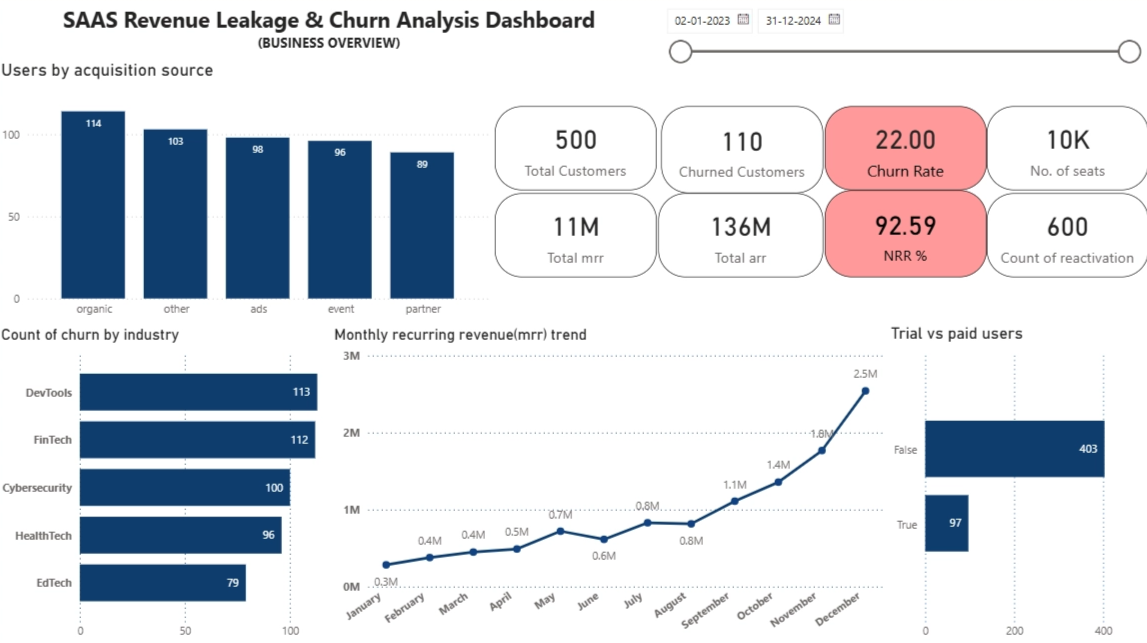

The page's visual inventory and layout, read from the dashboard file:
{"tool":"powerbi","page":{"name":"main chart ","canvas":[1280,720],"ordinal":0},"visuals":[{"type":"card","fields":{"Values":["Sum(ravenstack_subscriptions.arr_amount)"]},"box":[735,215,183.3,93.3],"z":0},{"type":"card","fields":{"Values":["Sum(ravenstack_subscriptions.mrr_amount)"]},"box":[553.3,215,180,93.3],"z":1000},{"type":"card","fields":{"Values":["Sum(ravenstack_accounts.seats)"]},"box":[1100,118.3,180,93.3],"z":2000},{"type":"barChart","title":"Count of churn by industry","fields":{"Category":["ravenstack_accounts.industry"],"Y":["CountNonNull(ravenstack_accounts.churn_flag)"]},"box":[0,361.3,403.2,358.1],"z":3000},{"type":"lineChart","title":"Monthly recurring revenue(mrr)  trend ","fields":{"Category":["ravenstack_subscriptions.start_date.Variation.Date Hierarchy.Year","ravenstack_subscriptions.start_date.Variation.Date Hierarchy.Quarter","ravenstack_subscriptions.start_date.Variation.Date Hierarchy.Month","ravenstack_subscriptions.start_date.Variation.Date Hierarchy.Day"],"Y":["Sum(ravenstack_subscriptions.mrr_amount)"]},"box":[369.4,361.3,619.4,358.1],"z":4000},{"type":"card","fields":{"Values":["CountNonNull(ravenstack_churn_events.is_reactivation)"]},"box":[1100,215,180,93.3],"z":5000},{"type":"columnChart","title":"Users by acquisition source","fields":{"Category":["ravenstack_accounts.referral_source"],"Y":["CountNonNull(ravenstack_accounts.account_id)"]},"box":[0,66.7,551.7,295],"z":7000},{"type":"barChart","title":"Trial vs paid users","fields":{"Category":["ravenstack_accounts.is_trial"],"Y":["CountNonNull(ravenstack_accounts.is_trial)"]},"box":[988.7,359.7,291.9,359.7],"z":8000},{"type":"card","fields":{"Values":["ravenstack_subscriptions.NRR 2024"]},"box":[920,211.7,180,96.7],"z":9000},{"type":"card","fields":{"Values":["ravenstack_accounts.Total Customers"]},"box":[553.3,118.3,180,93.3],"z":10000},{"type":"card","fields":{"Values":["ravenstack_accounts.Churned Customers"]},"box":[738.3,118.3,180,96.7],"z":11000},{"type":"card","fields":{"Values":["ravenstack_accounts.Churn Rate"]},"box":[920,118.3,180,93.3],"z":12000},{"type":"textbox","box":[0,0,738.3,65],"z":13000},{"type":"slicer","fields":{"Values":["ravenstack_accounts.signup_date"]},"box":[731.7,0,548.3,91.7],"z":14000}]}

Visuals, with their boxes in screenshot pixels (x1, y1, x2, y2), scaled from the page's 1280x720 canvas onto the 1147x643 screenshot:
card - Sum(ravenstack_subscriptions.arr_amount): box(659, 192, 823, 275)
card - Sum(ravenstack_subscriptions.mrr_amount): box(496, 192, 657, 275)
card - Sum(ravenstack_accounts.seats): box(986, 106, 1146, 189)
"Count of churn by industry" barChart: box(0, 323, 361, 642)
"Monthly recurring revenue(mrr)  trend " lineChart: box(331, 323, 886, 642)
card - CountNonNull(ravenstack_churn_events.is_reactivation): box(986, 192, 1146, 275)
"Users by acquisition source" columnChart: box(0, 60, 494, 323)
"Trial vs paid users" barChart: box(886, 321, 1146, 642)
card - ravenstack_subscriptions.NRR 2024: box(824, 189, 986, 275)
card - ravenstack_accounts.Total Customers: box(496, 106, 657, 189)
card - ravenstack_accounts.Churned Customers: box(662, 106, 823, 192)
card - ravenstack_accounts.Churn Rate: box(824, 106, 986, 189)
textbox: box(0, 0, 662, 58)
slicer - ravenstack_accounts.signup_date: box(656, 0, 1146, 82)
